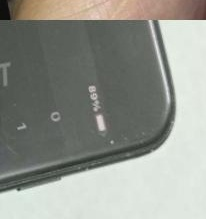scratch: (104, 123, 167, 155)
